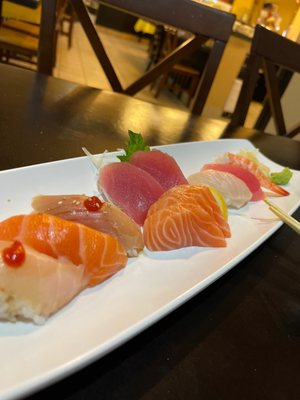curry: (1, 105, 298, 400)
pasta: (222, 25, 300, 163)
